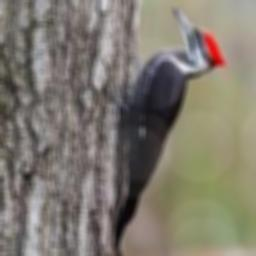Woodpecker: (109, 6, 227, 256)
